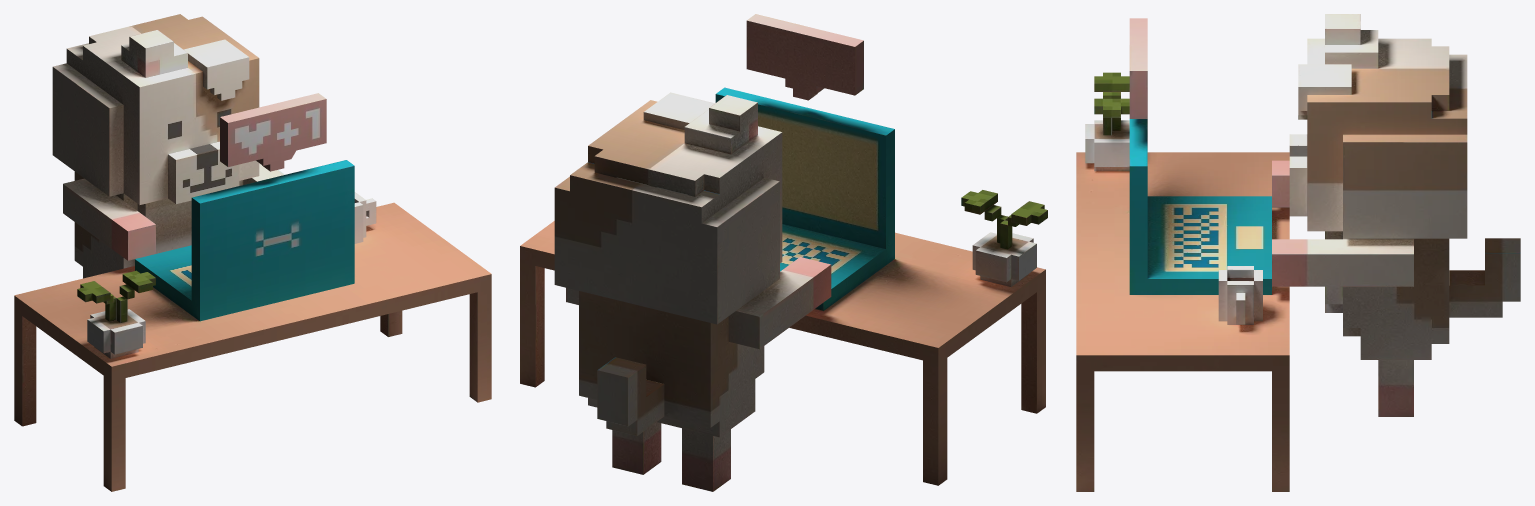
File: dog.glb
3 views of the same model, side by side, from view 1: azimuth 30°, elevation 25°; view 2: azimuth 150°, elevation 25°; view 3: azimuth 270°, elevation 25° (orthographic). The views are drawn at different scales.
Visible parts, largest first — view 1: main; view 2: main; view 3: main.
Boxes of the visible parts, x1=… form: main: x1=14, y1=14, x2=491, y2=491; main: x1=520, y1=14, x2=1047, y2=491; main: x1=1076, y1=14, x2=1520, y2=491.
Size of what is drawn, in the model's own units: 5.6 by 4.4 by 5.
Materials: 1 (1 with a texture image).
